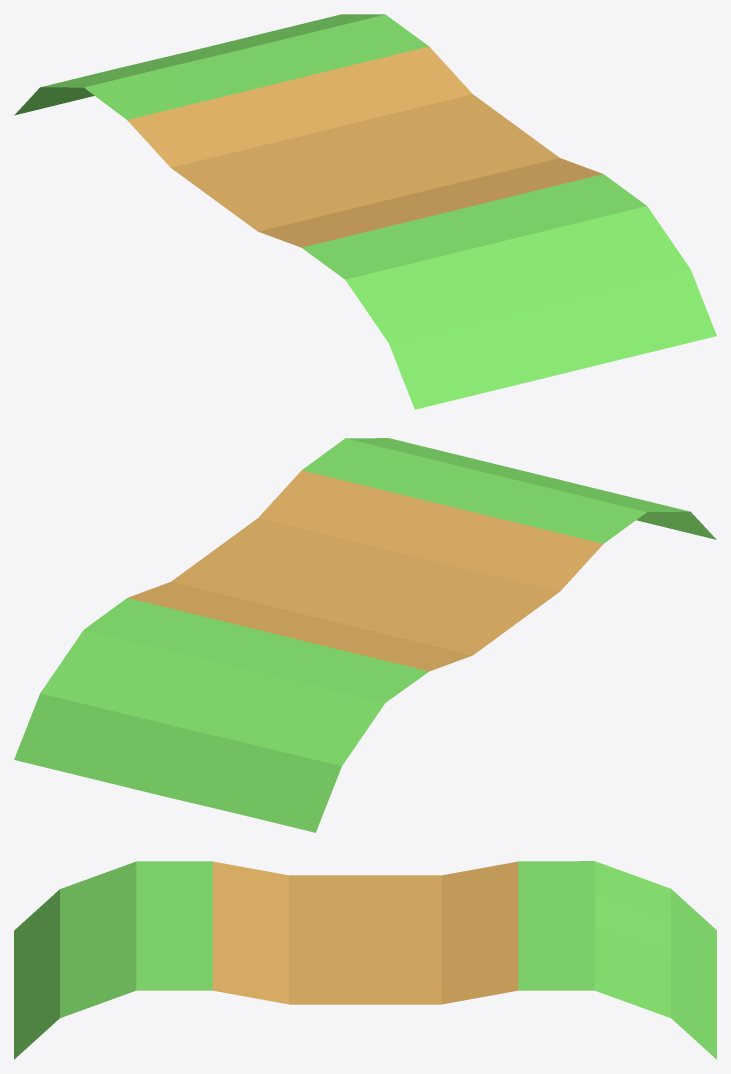
File: Path02.fbx
The picture shows the model from 3 angles, top to bottom: view 1: azimuth 30°, elevation 25°; view 2: azimuth 150°, elevation 25°; view 3: azimuth 270°, elevation 25°; orthographic projection. The views are drawn at different scales.
Parts seen in each view (by area): view 1: Path.002; view 2: Path.002; view 3: Path.002.
Boxes of the visible parts, x1,y1,x2,y2 form: Path.002: (14, 14, 716, 409); Path.002: (14, 438, 716, 832); Path.002: (14, 861, 716, 1059).
Size of the model in its own units: 200 by 50.36 by 460.
